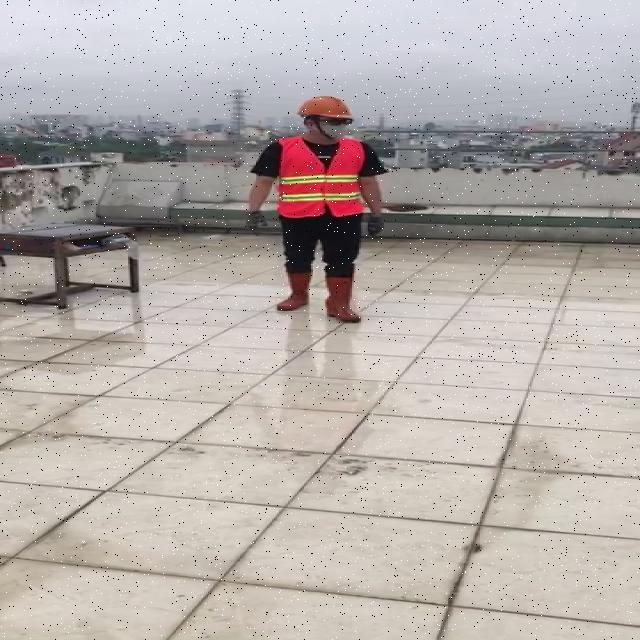Hard_hat: (293, 94, 358, 126)
Person: (246, 94, 396, 324)
Vest: (277, 135, 370, 223)
